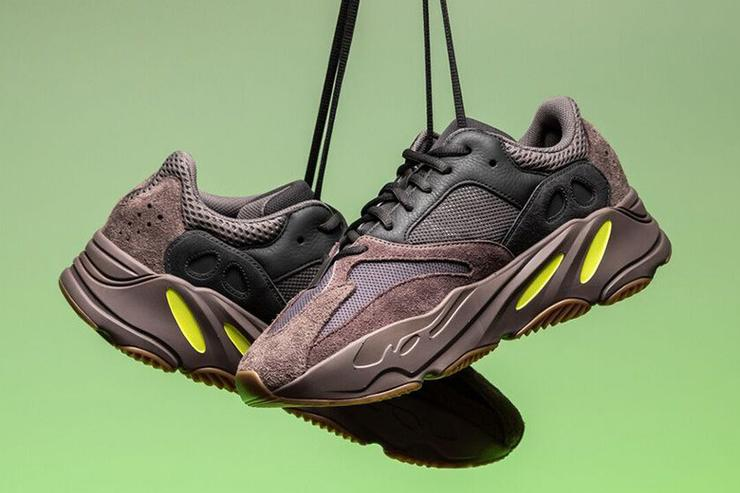adidas Yeezy 700 Mauve: (52, 141, 546, 475), (238, 90, 680, 400)
